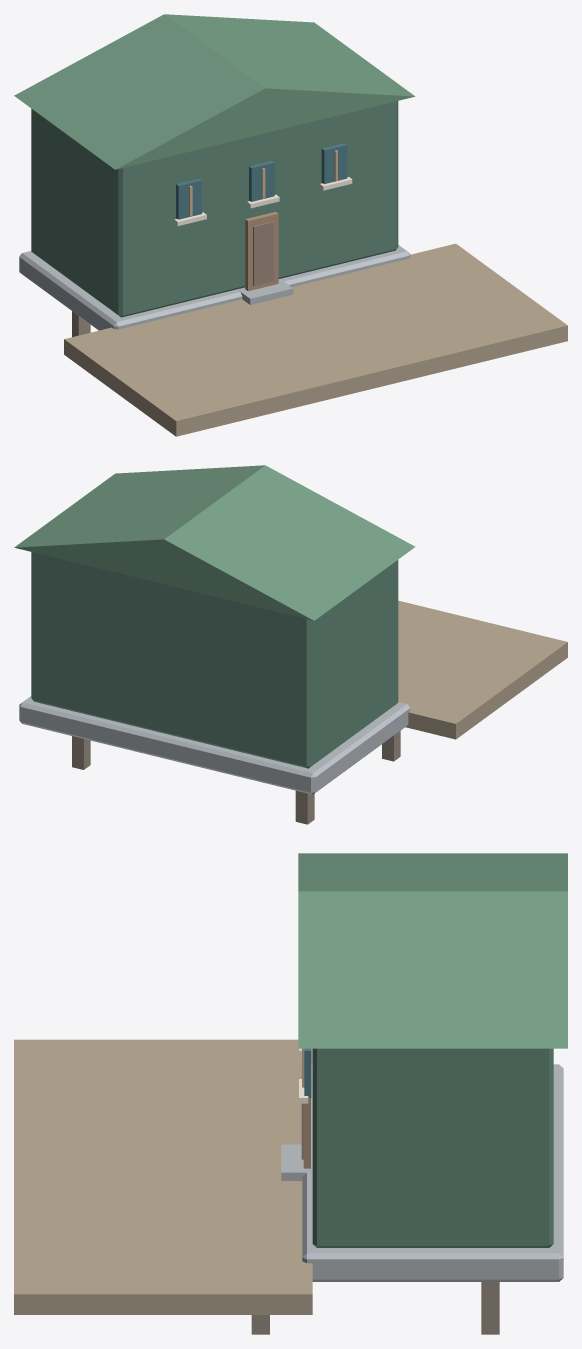
File: blue_lake_boathouse_near-D_PIH_ut.glb
The picture shows the model from 3 angles, top to bottom: view 1: azimuth 30°, elevation 25°; view 2: azimuth 150°, elevation 25°; view 3: azimuth 270°, elevation 25°; orthographic projection. The views are drawn at different scales.
Visible parts, largest first — view 1: blue_lake_boathouse_near; view 2: blue_lake_boathouse_near; view 3: blue_lake_boathouse_near.
Boxes of the visible parts, x1,y1,x2,y2 form: blue_lake_boathouse_near: (14,14,567,436); blue_lake_boathouse_near: (14,465,567,824); blue_lake_boathouse_near: (14,853,567,1334).
Bounding box in the file's own units: 10.5 × 7.05 × 9.65.
